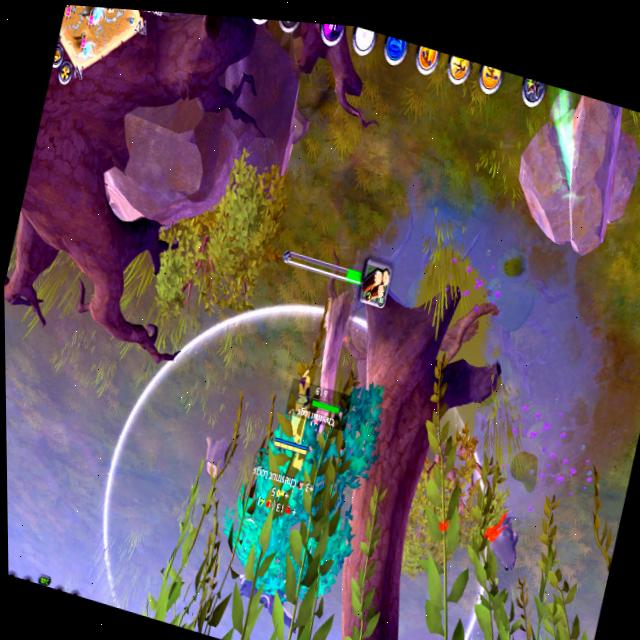ore: (467, 492, 534, 583)
red: (265, 360, 330, 470)
wisp caged: (200, 253, 428, 636)
